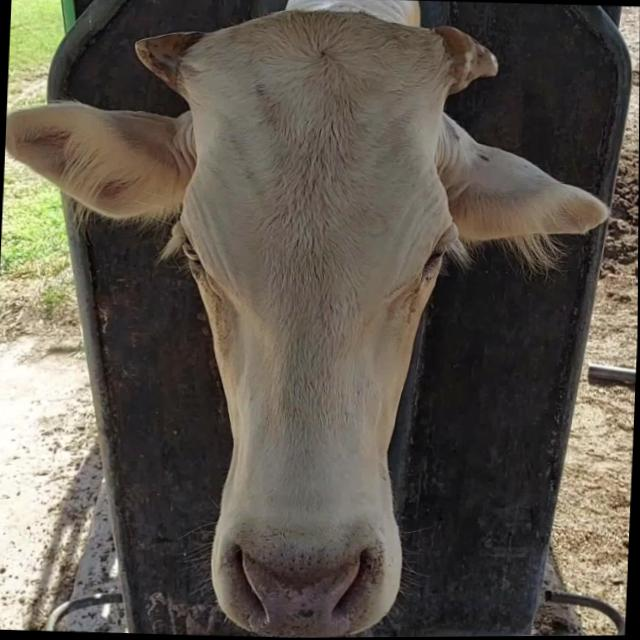cowFace: (160, 6, 458, 637)
